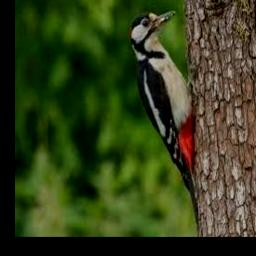Woodpecker: (129, 11, 199, 230)
